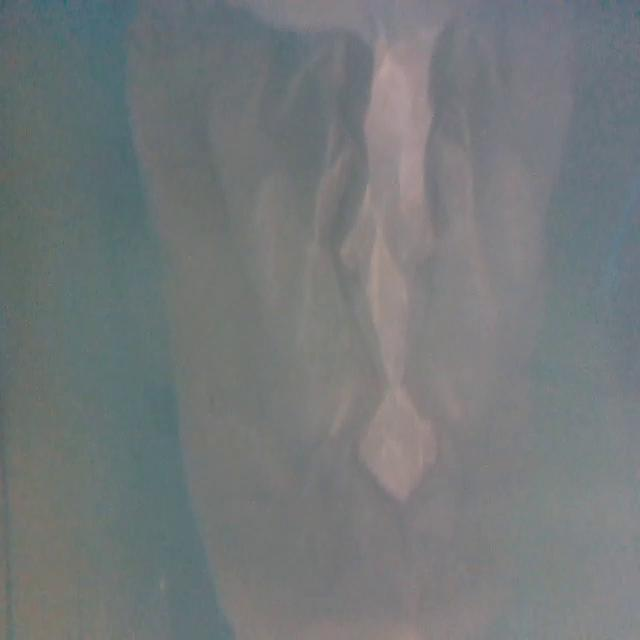plastic bags: (119, 0, 583, 640)
